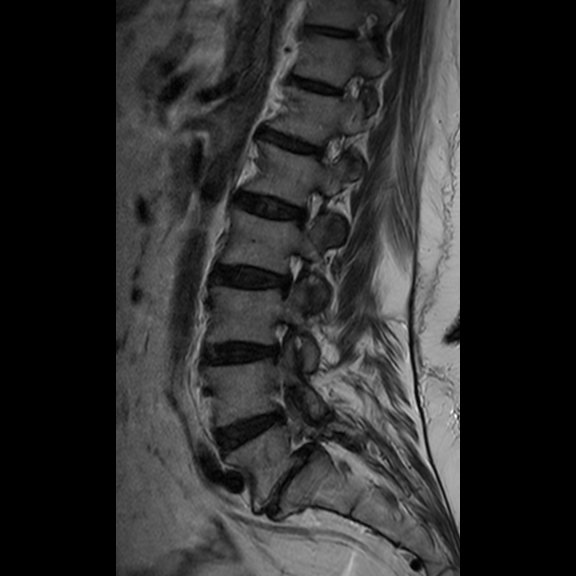LFS0: (287, 182, 330, 239), (310, 122, 353, 179)
LFS1: (268, 243, 315, 303)
